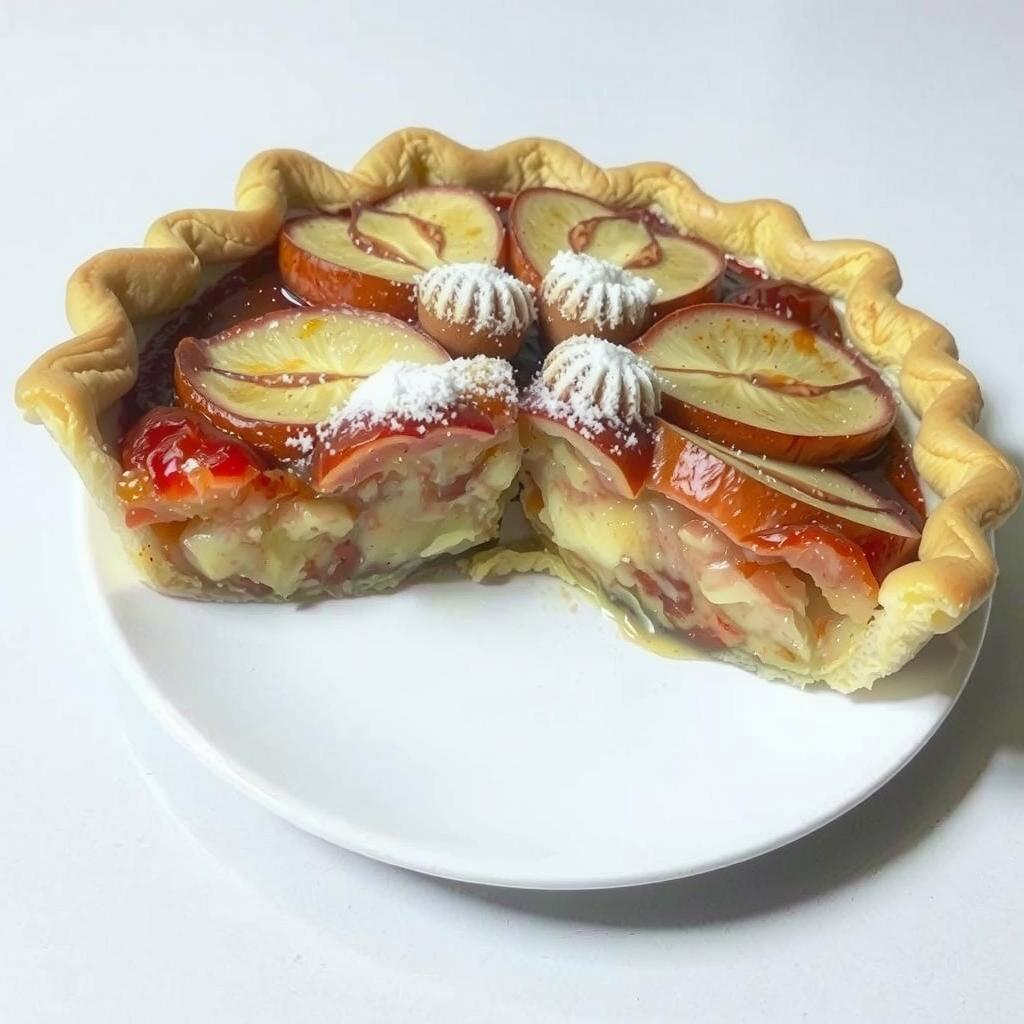pie: (9, 121, 1020, 713)
